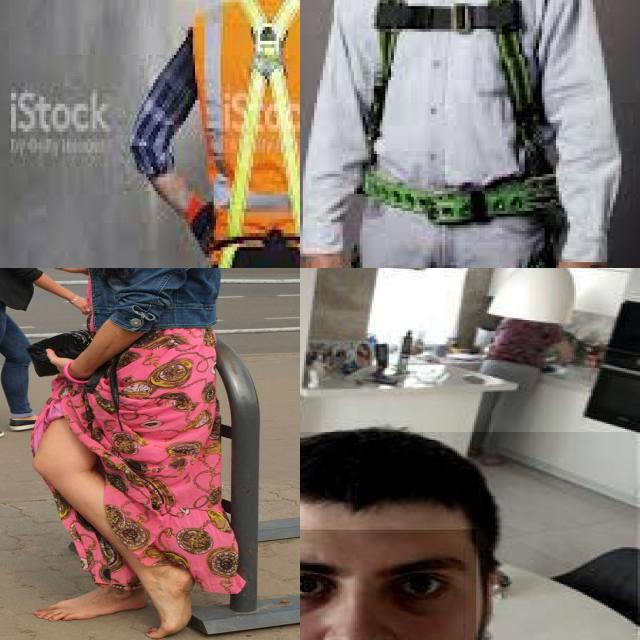Barefoots: (34, 588, 147, 621), (146, 567, 196, 639)
Harness: (351, 0, 562, 268), (230, 0, 300, 236)
No_Glasses: (300, 552, 477, 626)
face_nomask: (300, 529, 478, 640)
head_nohelmet: (300, 453, 499, 533)
person: (300, 431, 640, 640)
